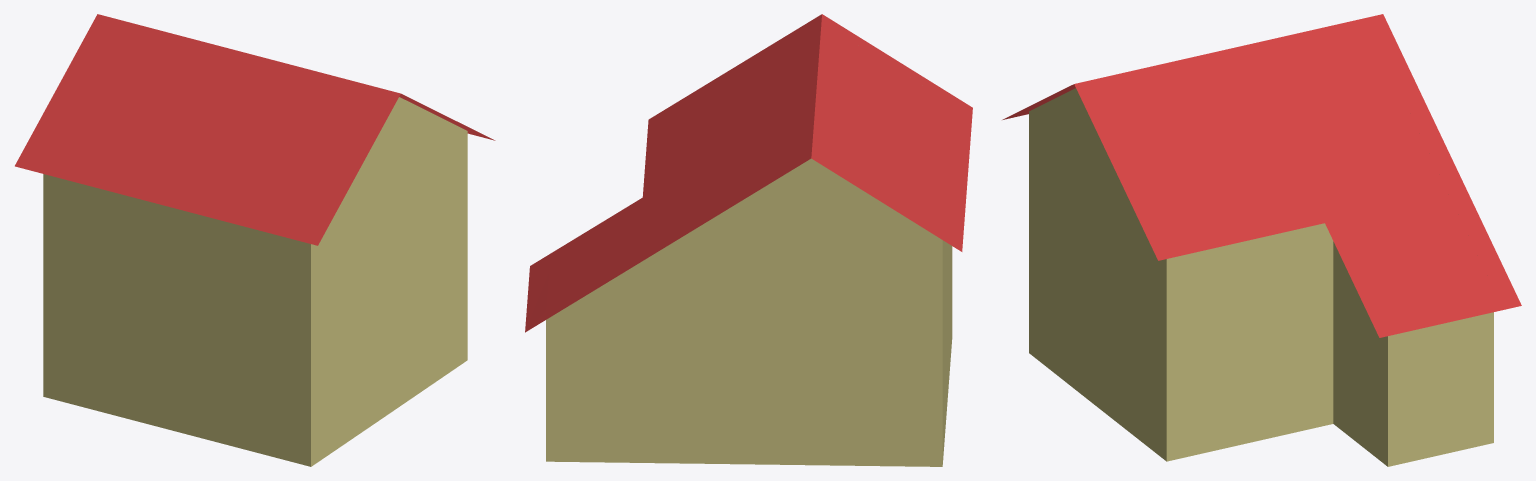
3 views of the same model, side by side, from view 1: azimuth 30°, elevation 25°; view 2: azimuth 150°, elevation 25°; view 3: azimuth 270°, elevation 25° (orthographic). The views are drawn at different scales.
Size of the model in its own units: 17.09 by 18.88 by 12.93.
